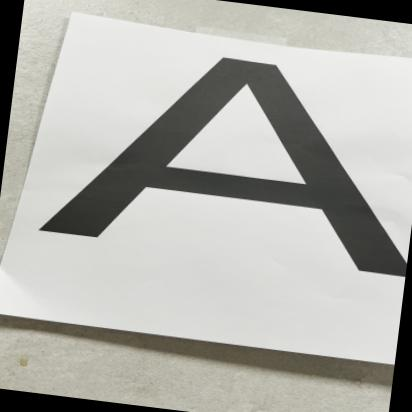seat: (4, 16, 412, 287)
